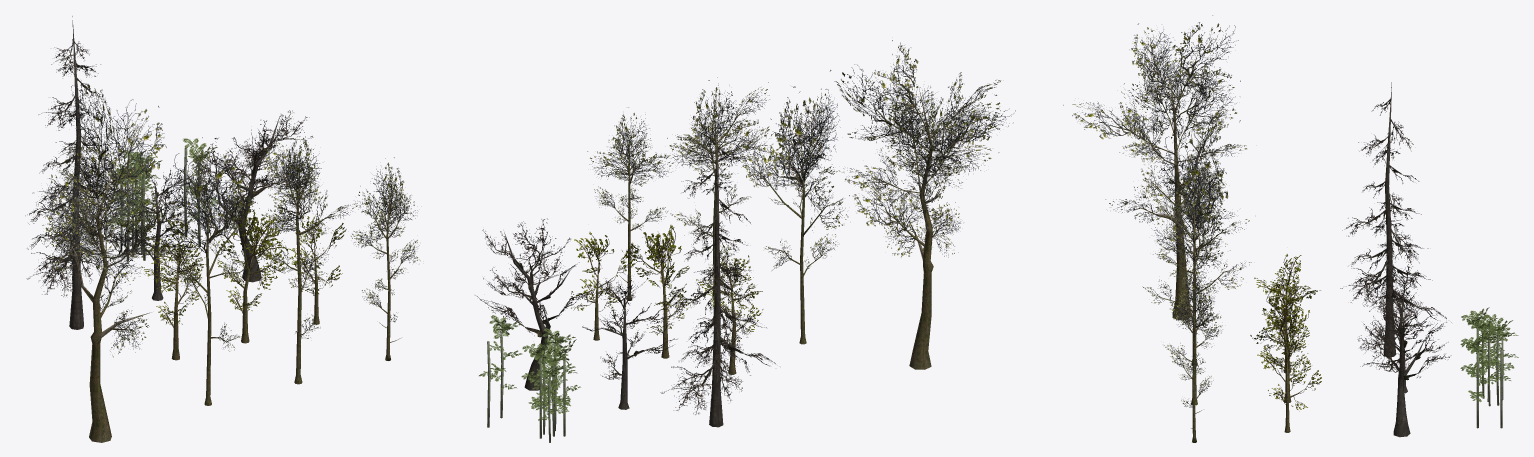
File: arboles_optimized.glb
3 renders of one model, left to right at view 1: azimuth 30°, elevation 25°; view 2: azimuth 150°, elevation 25°; view 3: azimuth 270°, elevation 25°, orthographic. The views are drawn at different scales.
Parts seen in each view (by area): view 1: Rama-material (×4), Rama_002-material (×3), bark_brown-material (×6), Rama_001-material (×3), rough_wood-material (×3), Hojas-material (×2), Bambu-material; view 2: Rama-material (×4), Rama_002-material (×3), bark_brown-material (×4), Rama_001-material (×3), rough_wood-material (×3), Hojas-material (×2), Bambu-material; view 3: Rama-material (×4), Rama_002-material (×3), Rama_001-material (×3), bark_brown-material (×3), rough_wood-material (×2), Hojas-material (×2), Bambu-material.
Part boxes in pixels (left/top/right/bottom): Rama-material (×4): left=42, top=75, right=420, bottom=357; Rama_002-material (×3): left=25, top=39, right=319, bottom=296; bark_brown-material (×6): left=61, top=125, right=404, bottom=442; Rama_001-material (×3): left=141, top=209, right=346, bottom=324; rough_wood-material (×3): left=54, top=16, right=280, bottom=329; Hojas-material (×2): left=107, top=138, right=218, bottom=234; Bambu-material: left=120, top=169, right=145, bottom=261; Rama-material (×4): left=587, top=40, right=1015, bottom=271; Rama_002-material (×3): left=475, top=148, right=775, bottom=414; bark_brown-material (×4): left=612, top=76, right=979, bottom=369; Rama_001-material (×3): left=571, top=225, right=763, bottom=347; rough_wood-material (×3): left=504, top=127, right=745, bottom=427; Hojas-material (×2): left=479, top=315, right=580, bottom=420; Bambu-material: left=539, top=344, right=565, bottom=442; Rama-material (×4): left=1063, top=15, right=1251, bottom=407; Rama_002-material (×3): left=1340, top=100, right=1451, bottom=380; Rama_001-material (×3): left=1250, top=254, right=1321, bottom=411; bark_brown-material (×3): left=1102, top=51, right=1232, bottom=442; rough_wood-material (×2): left=1369, top=82, right=1426, bottom=437; Hojas-material (×2): left=1460, top=307, right=1518, bottom=401; Bambu-material: left=1476, top=327, right=1503, bottom=406.
Bounding box in the file's own units: 14.68 × 11.73 × 15.53.
7 materials, 7 textured.
